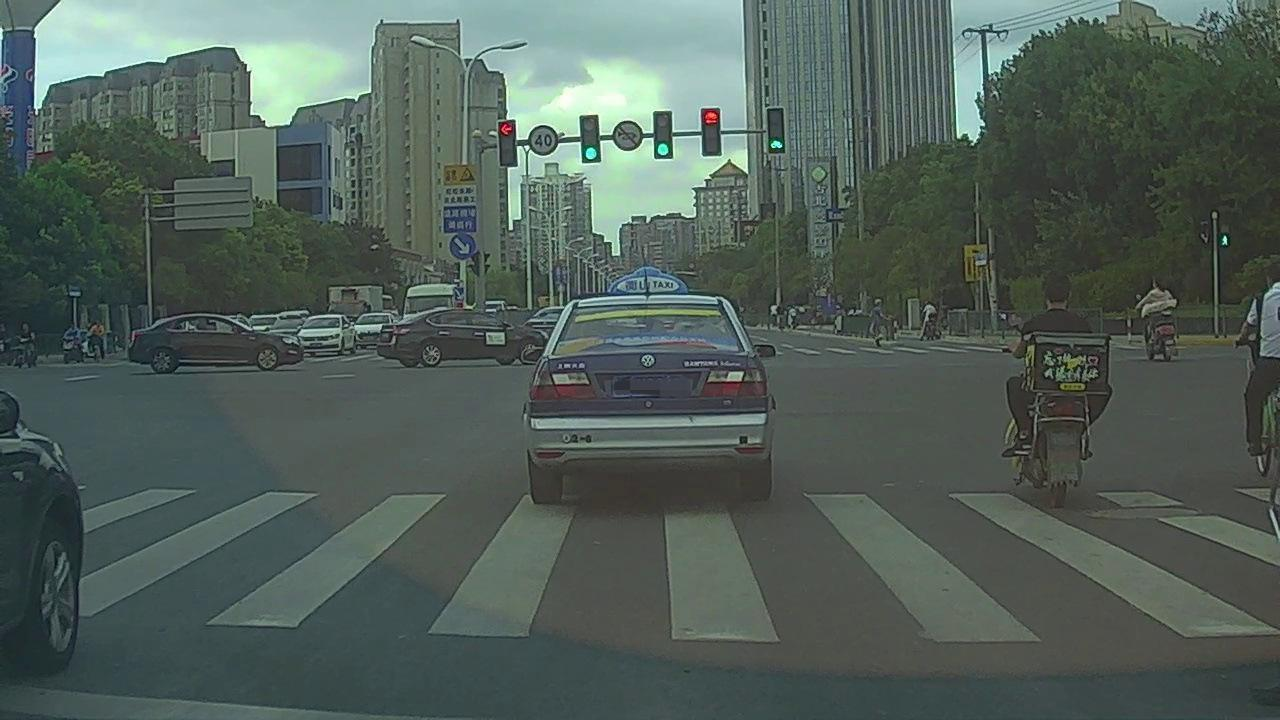traffic_light: (701, 108, 722, 156), (579, 116, 599, 162), (653, 112, 672, 159), (497, 121, 516, 166), (767, 108, 786, 152)
